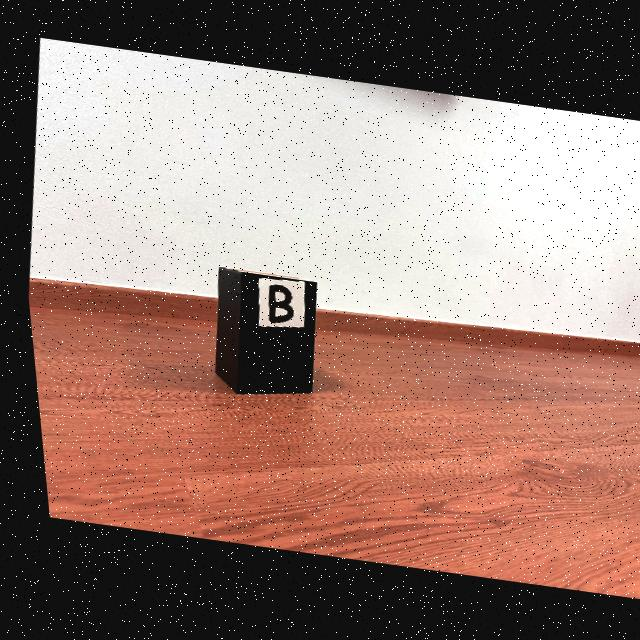B: (263, 285, 288, 324)
